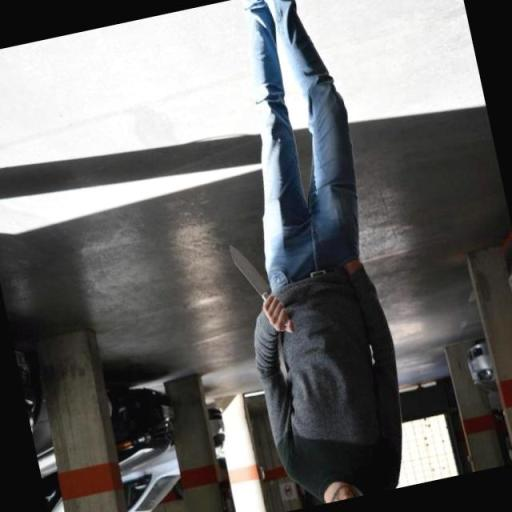knife: (229, 236, 288, 330)
